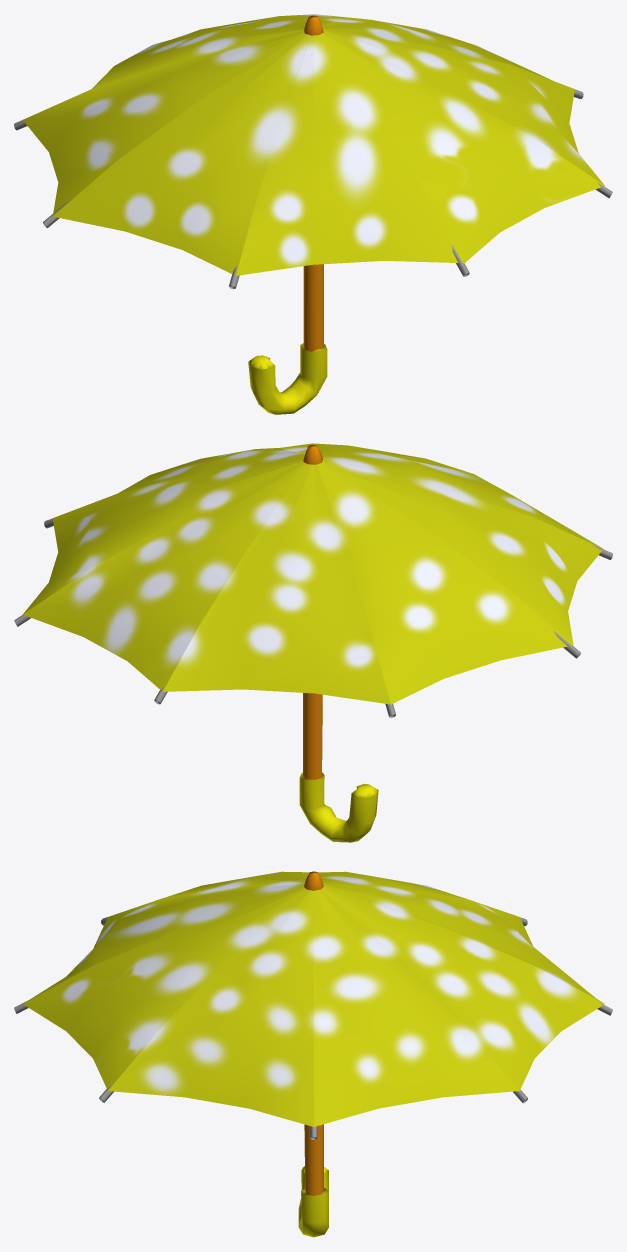
File: cheese-umbrella-v2.glb
3 views of the same model, one above another, from view 1: azimuth 30°, elevation 25°; view 2: azimuth 150°, elevation 25°; view 3: azimuth 270°, elevation 25° (orthographic). The views are drawn at different scales.
Parts seen in each view (by area): view 1: 布（チーズ柄）, 柱; view 2: 布（チーズ柄）, 柱; view 3: 布（チーズ柄）, 柱.
Boxes of the visible parts, x1=… form: 布（チーズ柄）: x1=23, y1=14, x2=604, y2=275; 柱: x1=248, y1=15, x2=327, y2=414; 布（チーズ柄）: x1=23, y1=443, x2=603, y2=704; 柱: x1=299, y1=445, x2=378, y2=842; 布（チーズ柄）: x1=23, y1=871, x2=604, y2=1126; 柱: x1=298, y1=871, x2=328, y2=1237.
Bounding box in the file's own units: 2.06 × 1.42 × 2.06.
Materials: 13 (1 with a texture image).
